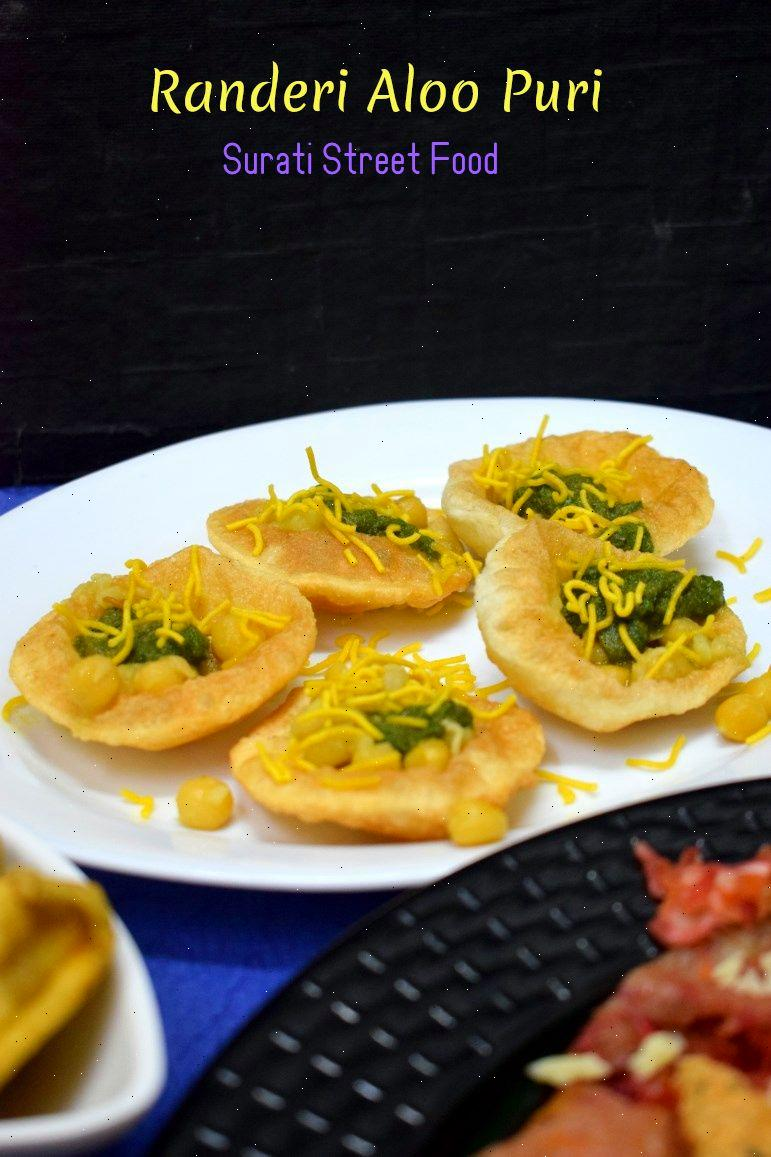puri: (43, 443, 750, 803)
